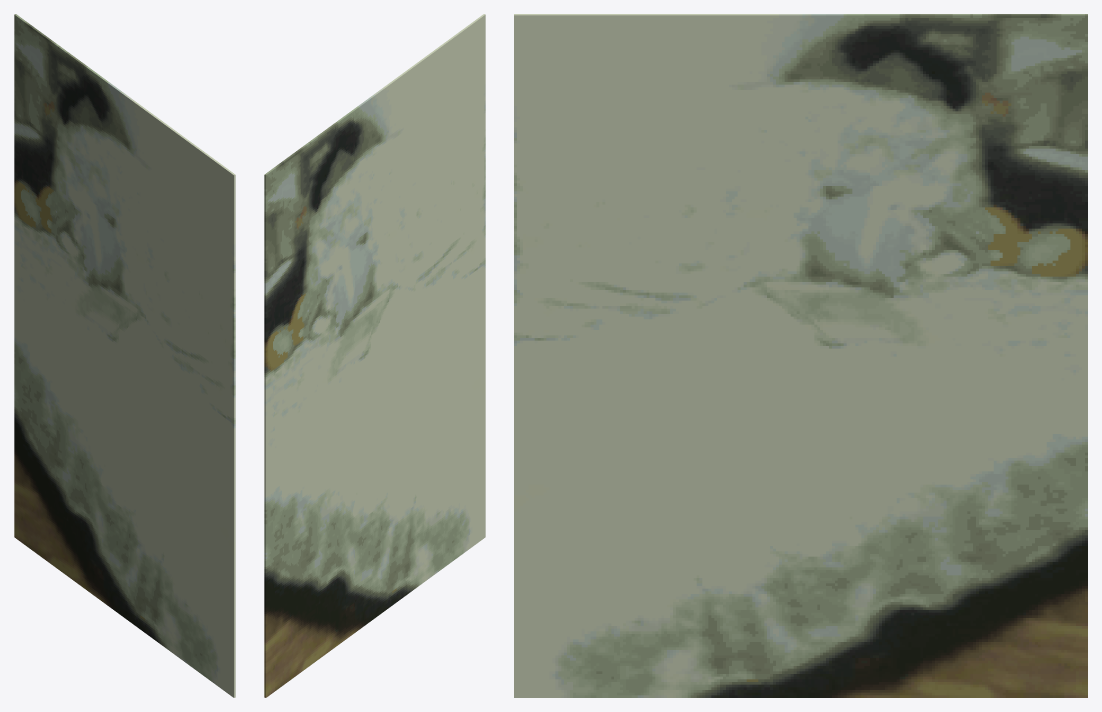
Rendered from img_1.vox.obj.
3 views of the same model, side by side, from view 1: azimuth 30°, elevation 25°; view 2: azimuth 150°, elevation 25°; view 3: azimuth 270°, elevation 25° (orthographic). The views are drawn at different scales.
Parts seen in each view (by area): view 1: 20080913230656; view 2: 20080913230656; view 3: 20080913230656.
Part boxes in pixels (box(x1,y1,x2,y2)): 20080913230656: box(14, 14, 235, 697); 20080913230656: box(264, 14, 485, 697); 20080913230656: box(514, 14, 1087, 697).
Bounding box in the file's own units: 0.1 × 25.6 × 19.5.
1 material, 1 textured.
